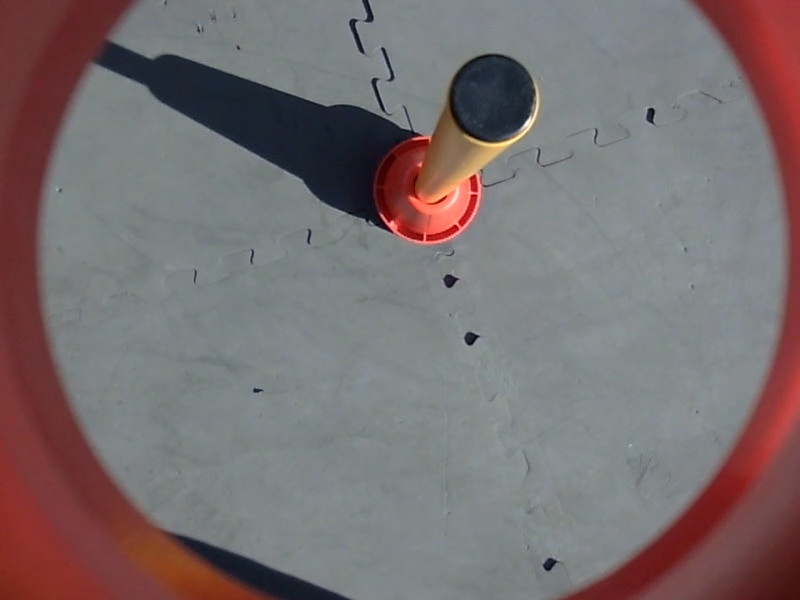tip: (444, 52, 545, 154)
